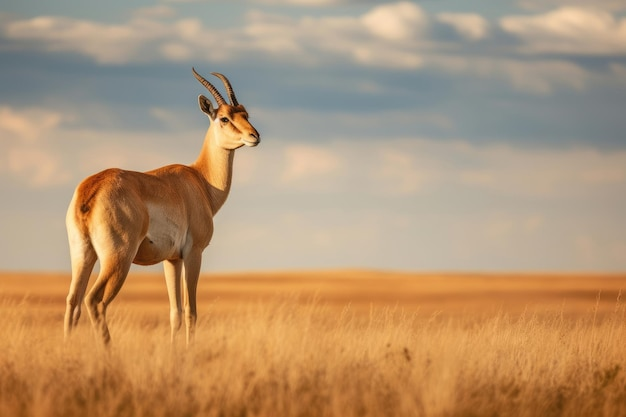saiga: (60, 67, 266, 352)
